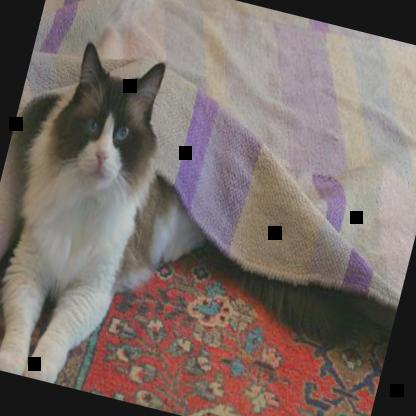cat: (0, 36, 238, 409)
